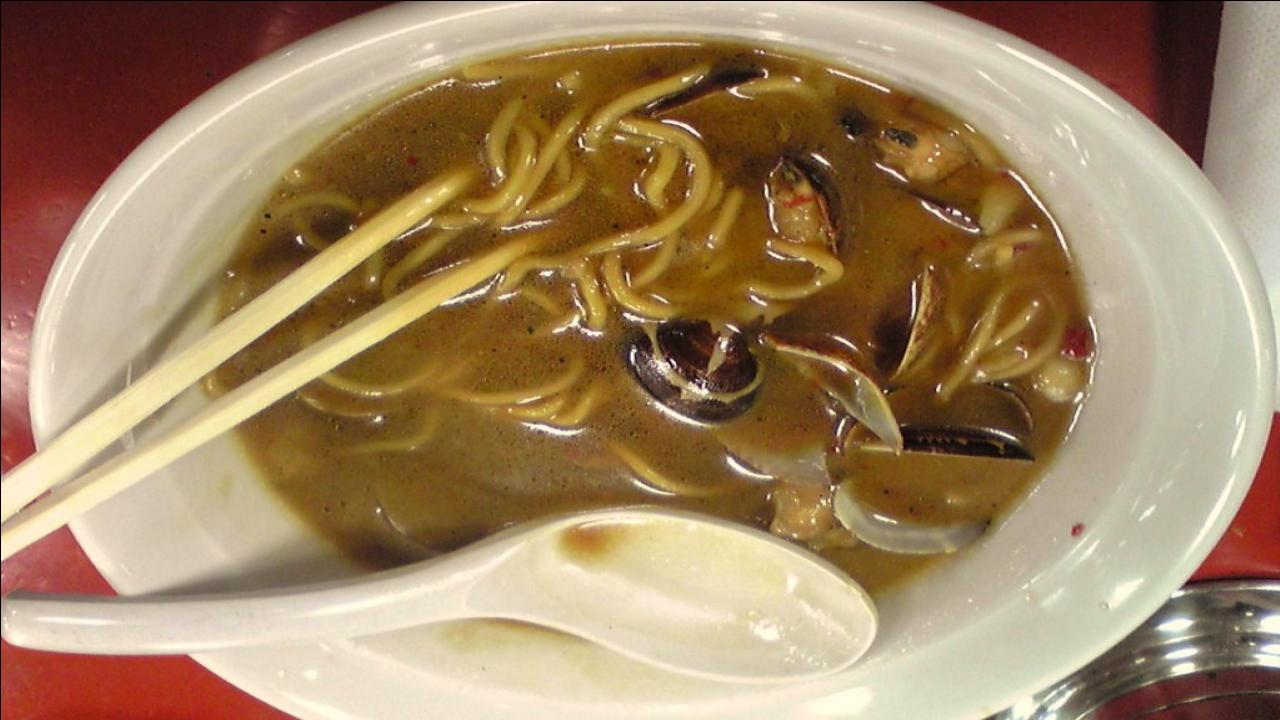chopstick: (0, 165, 510, 563)
